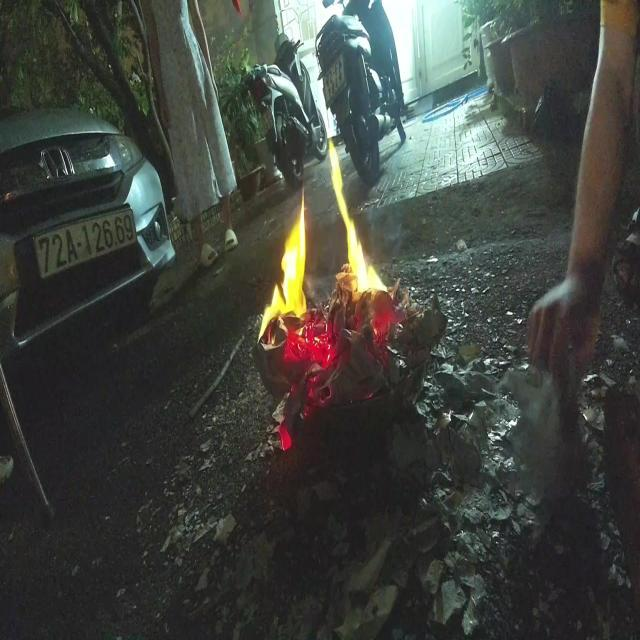Fire: (328, 139, 388, 293), (257, 186, 307, 347)
